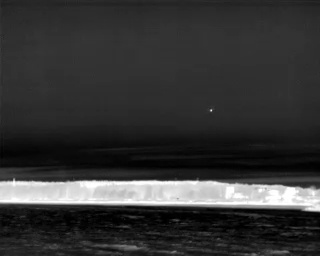HELICOPTER: (207, 106, 216, 115)
